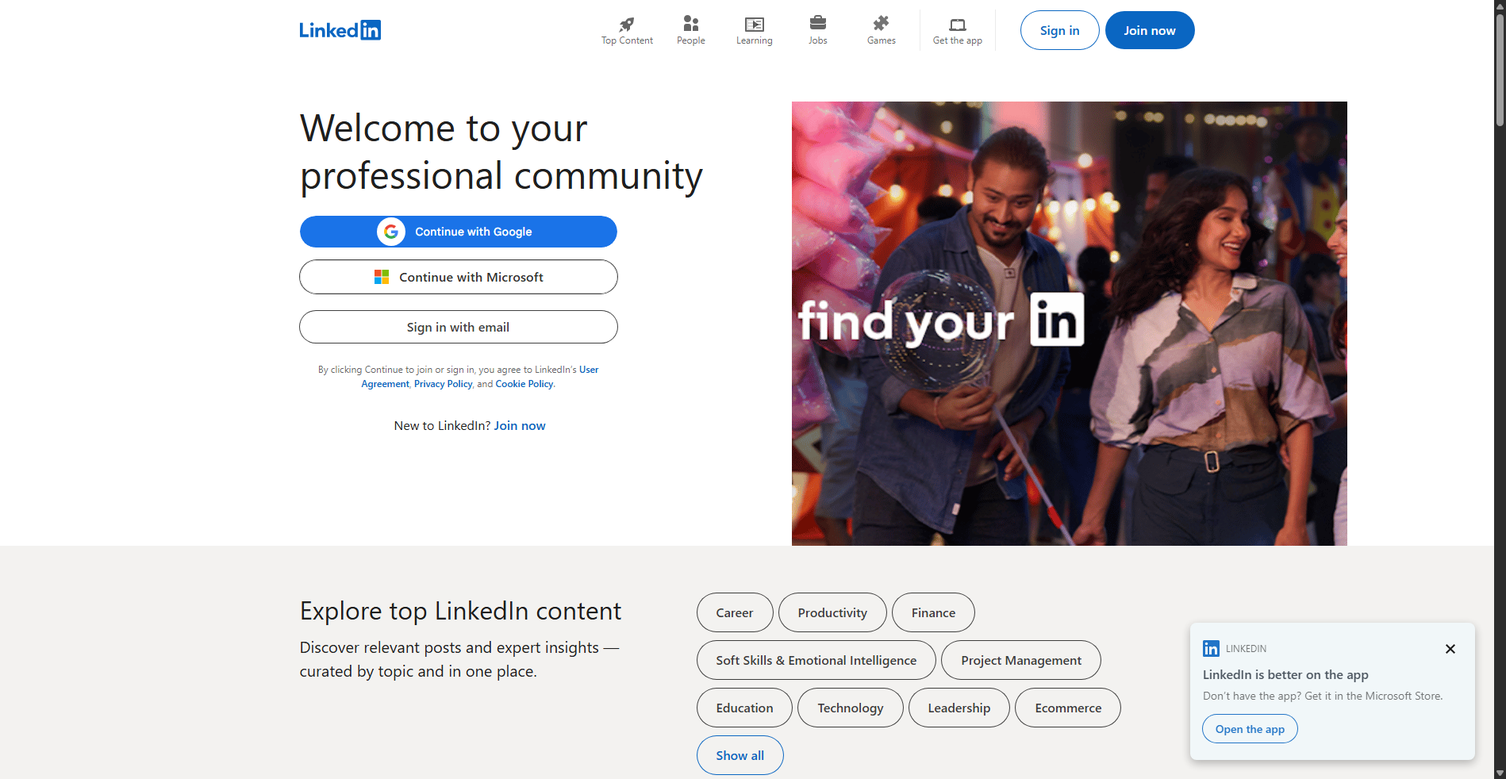general_button: (300, 260, 617, 298), (300, 216, 617, 248), (300, 311, 617, 343), (697, 641, 936, 679), (942, 641, 1101, 679), (779, 593, 886, 631), (1016, 689, 1121, 727), (799, 689, 903, 727), (909, 689, 1010, 727), (697, 689, 792, 727), (1105, 11, 1195, 49), (697, 736, 783, 774), (893, 593, 974, 631), (1021, 11, 1099, 49), (697, 593, 772, 631), (1203, 715, 1297, 743)
general_image: (792, 102, 1347, 546)
general_link: (361, 363, 598, 389), (300, 10, 380, 51), (920, 10, 996, 51), (601, 10, 653, 51), (729, 10, 780, 51), (856, 10, 907, 51), (666, 10, 716, 51), (793, 10, 843, 51), (494, 416, 546, 433), (414, 377, 472, 389), (496, 377, 553, 389)
icon_close: (1437, 635, 1462, 660), (1444, 642, 1457, 655)
